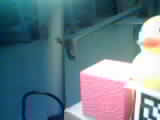duck: (122, 16, 153, 94)
